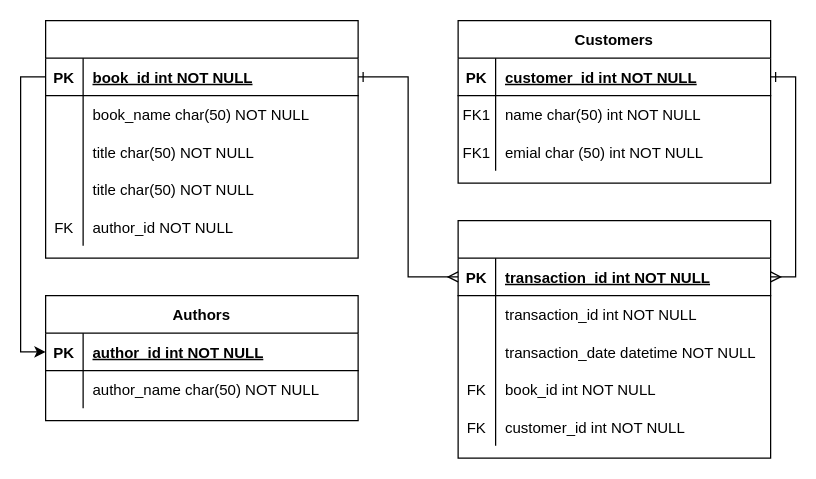
The diagram is 816 pixels wide and 479 high, and some of its shapes have lost their labels. The box of each missing label's shape, as (x1, y1, x2, y2) in pixels:
Books: (44, 19, 358, 258)
Transactions: (457, 219, 771, 458)
